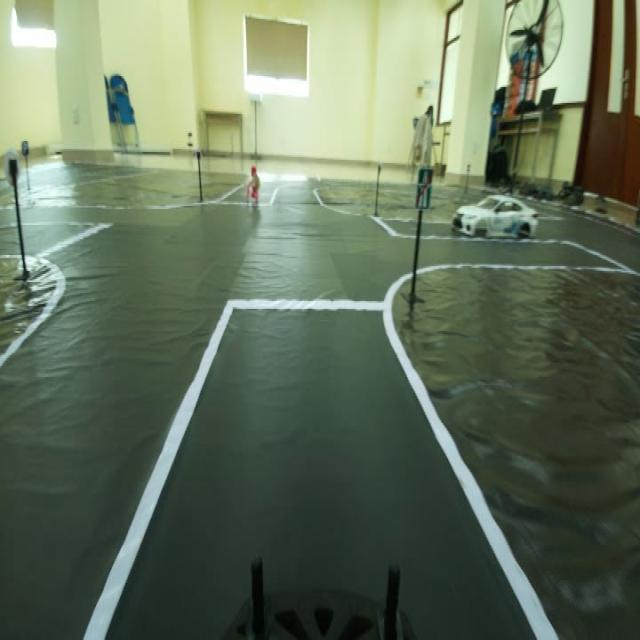highway_exit: (413, 161, 433, 210)
